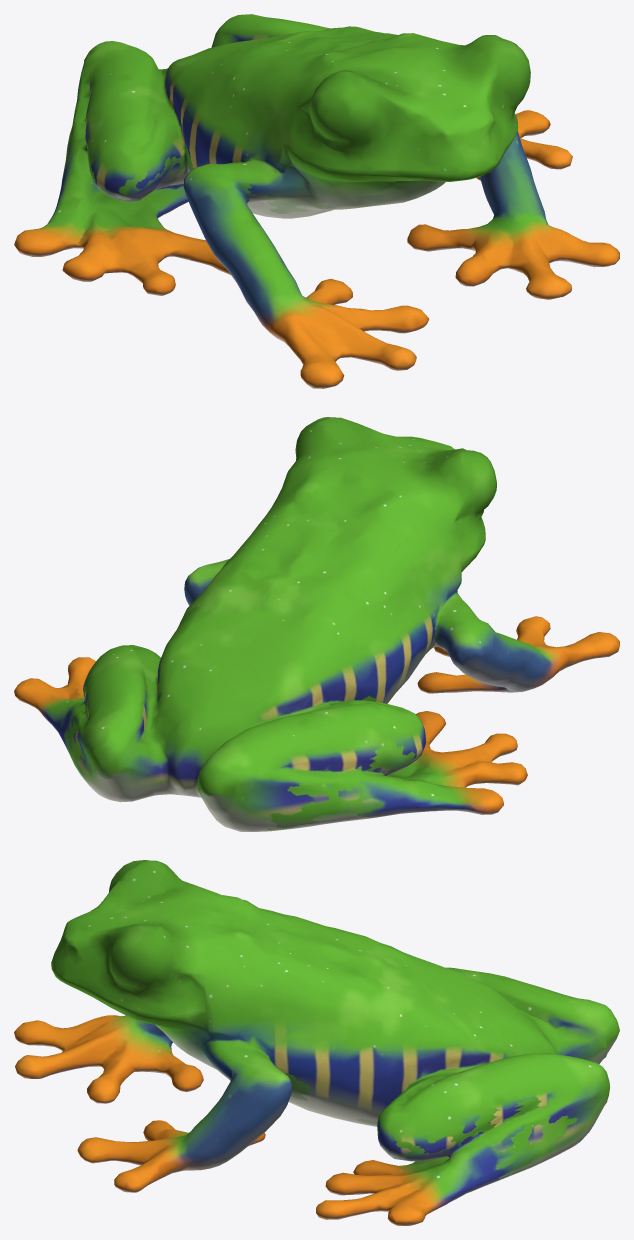
The model's file is redeye.glb.
The picture shows the model from 3 angles, top to bottom: view 1: azimuth 30°, elevation 25°; view 2: azimuth 150°, elevation 25°; view 3: azimuth 270°, elevation 25°; orthographic projection. The views are drawn at different scales.
Visible parts, largest first — view 1: redeye; view 2: redeye; view 3: redeye.
Part boxes in pixels (left/top/right/bottom): redeye: left=14, top=14, right=619, bottom=388; redeye: left=14, top=417, right=619, bottom=831; redeye: left=14, top=860, right=619, bottom=1225.
Bounding box in the file's own units: 0.0582 × 0.0261 × 0.064.
Materials: 1 (1 with a texture image).
